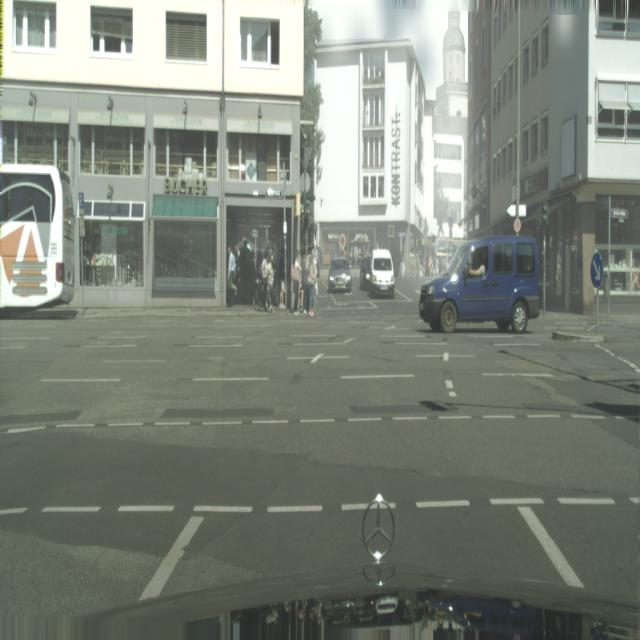car: (254, 274, 273, 312)
motorcycle: (0, 163, 76, 311)
person: (261, 249, 273, 311), (307, 251, 317, 317), (227, 244, 237, 308), (291, 250, 301, 313), (301, 252, 310, 314)
rider: (418, 234, 540, 334)
truck: (418, 234, 540, 334), (367, 249, 395, 297), (327, 258, 352, 294)
